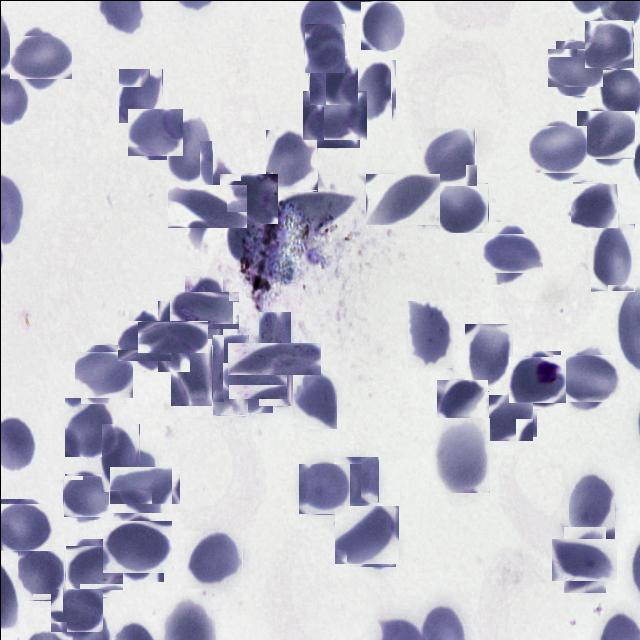red blood cell: (433, 417, 490, 493), (242, 326, 306, 389), (176, 174, 237, 236), (365, 173, 439, 224), (106, 516, 167, 577), (334, 504, 396, 564), (557, 349, 615, 407), (418, 127, 476, 185), (186, 530, 242, 588), (306, 86, 362, 144), (265, 128, 317, 190), (166, 115, 212, 185), (464, 323, 512, 390), (407, 300, 453, 368), (568, 473, 614, 539), (64, 397, 115, 456), (590, 223, 634, 291), (557, 532, 611, 586), (578, 107, 632, 161), (530, 122, 584, 176), (220, 172, 274, 226), (117, 458, 171, 512), (212, 334, 248, 415), (177, 282, 230, 336), (13, 31, 67, 84), (77, 347, 129, 400), (146, 309, 198, 362), (170, 338, 211, 405), (292, 366, 336, 428), (484, 226, 536, 278), (128, 106, 180, 158), (510, 353, 562, 405), (0, 500, 51, 553), (68, 541, 120, 592), (298, 463, 350, 514), (354, 59, 396, 122), (101, 423, 139, 492), (228, 354, 280, 404), (122, 314, 172, 365), (438, 182, 488, 232), (333, 456, 378, 510), (118, 68, 162, 123), (308, 56, 358, 104), (584, 19, 632, 68), (51, 586, 100, 634), (486, 389, 534, 438), (17, 550, 64, 600), (551, 44, 598, 91), (571, 182, 617, 228), (360, 1, 404, 49), (436, 379, 487, 419), (63, 473, 107, 518), (304, 23, 344, 72)
